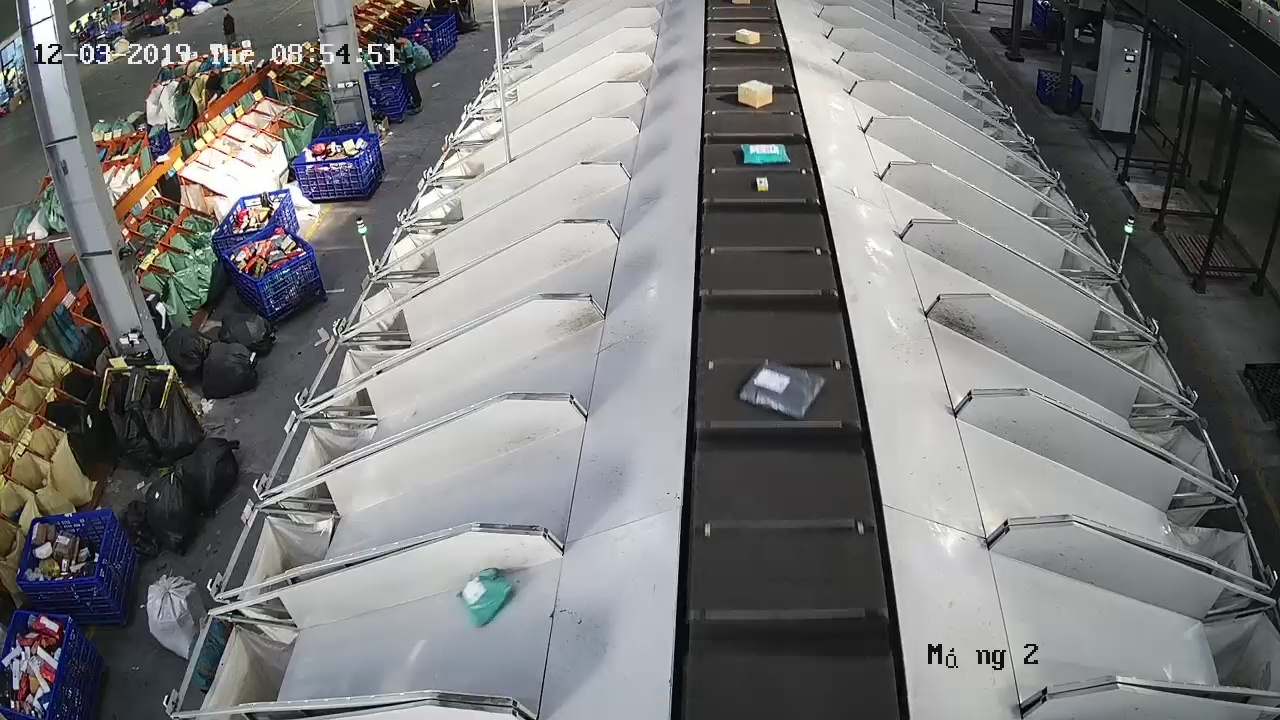parcel: (737, 359, 826, 422), (457, 565, 515, 627), (739, 142, 792, 166), (755, 175, 770, 194)
